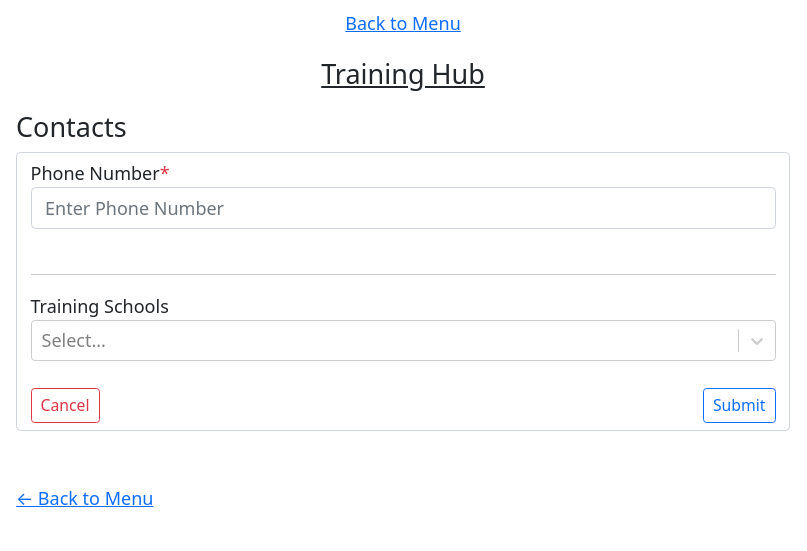
Test: add a new contact › can validate numbers less than 10 digits
# should not be able to submit contacts less than 4 digit
Step 1. Type "079383" into the field named "phoneNumber" → (404, 209), box [31, 187, 776, 230]
Then press Enter
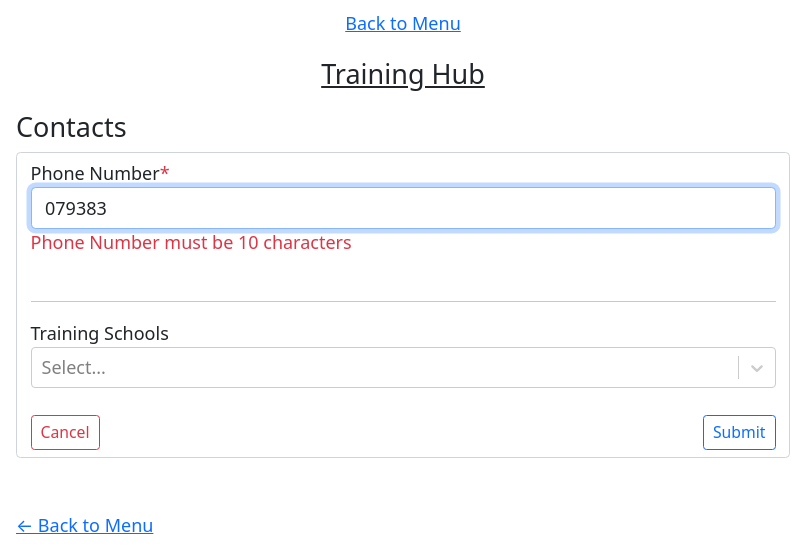
Check: the text "Phone Number must be 10 characters" is shown, box [30, 230, 352, 254]
